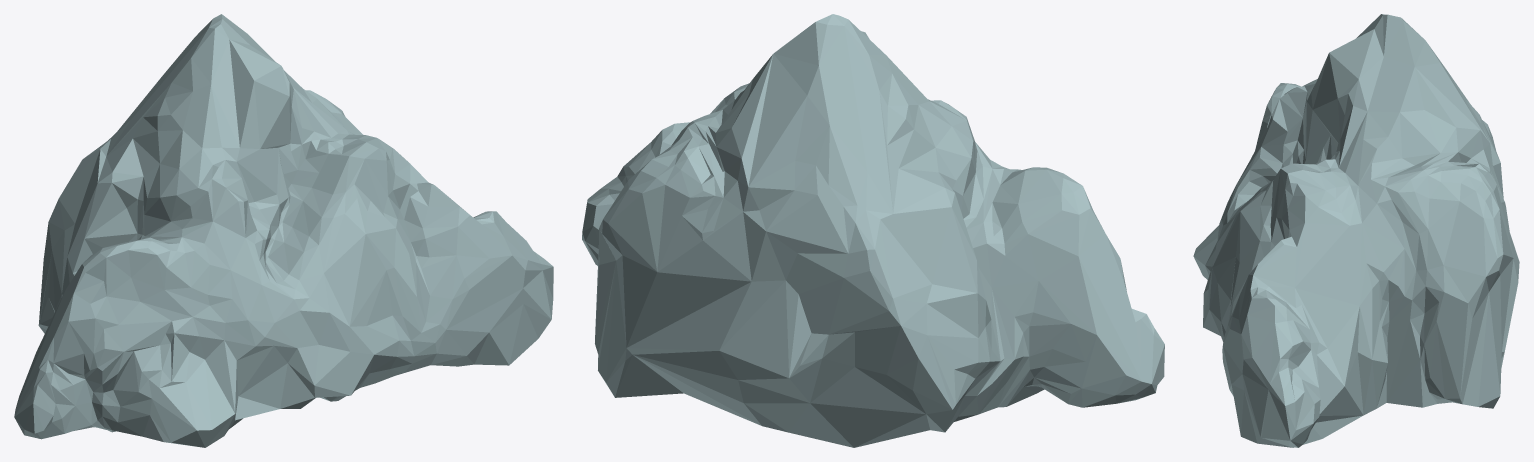
File: mountain3.fbx
3 renders of one model, left to right at view 1: azimuth 30°, elevation 25°; view 2: azimuth 150°, elevation 25°; view 3: azimuth 270°, elevation 25°, orthographic. The views are drawn at different scales.
Parts seen in each view (by area): view 1: _; view 2: _; view 3: _.
Part boxes in pixels (x1,y1,x2,y2): _: (14,14,553,447); _: (582,14,1164,447); _: (1193,14,1519,447).
Bounding box in the file's own units: 19159 × 12545 × 10746.
